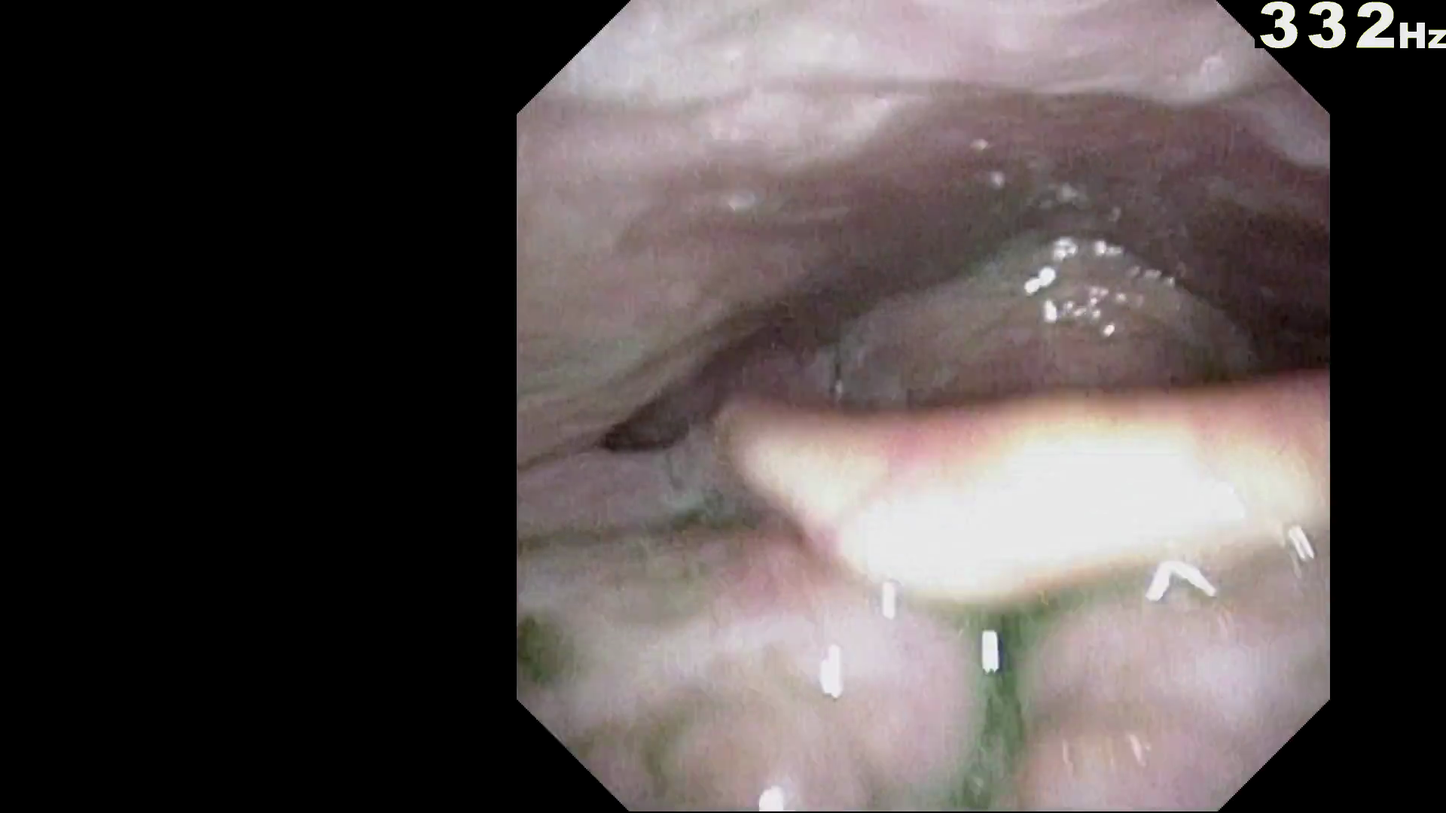epiglottis: (702, 366, 1320, 592)
